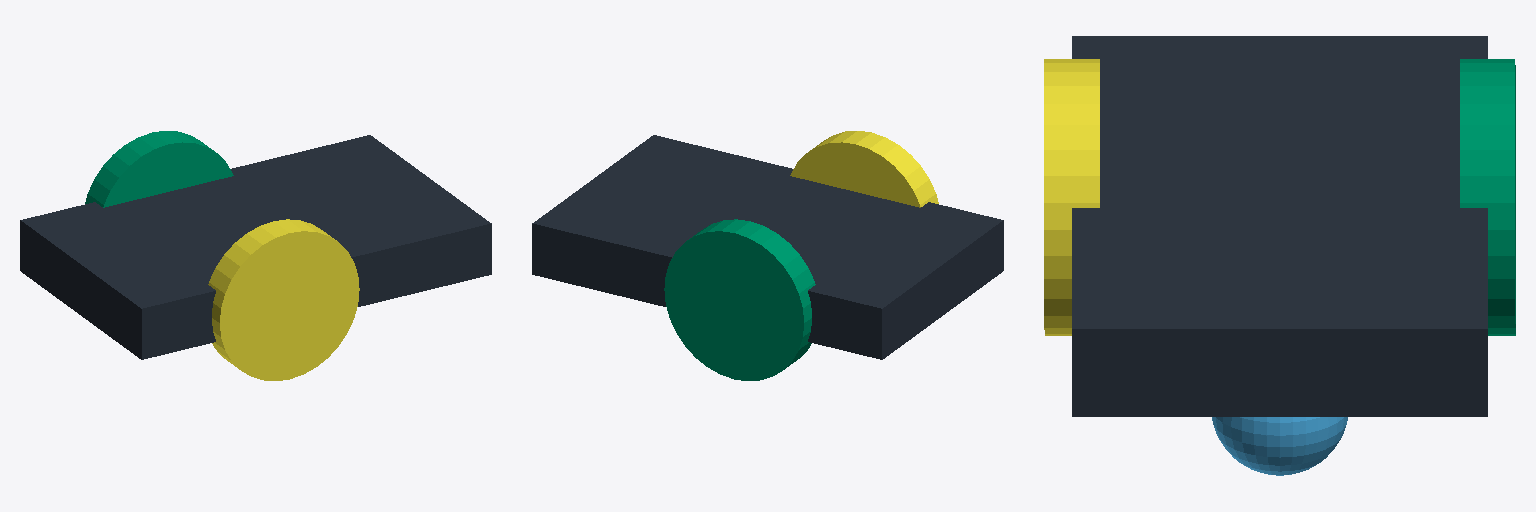
robot.urdf — m2wr:
<?xml version="1.0" ?>
<robot name="m2wr" xmlns:xacro="http://www.ros.org/wiki/xacro">
	
	
		  <gazebo reference="link_chassis">
    <material>Gazebo/Orange</material>
  </gazebo>
  <gazebo reference="link_left_wheel">
    <material>Gazebo/Blue</material>
  </gazebo>
  <gazebo reference="link_right_wheel">
    <material>Gazebo/Blue</material>
  </gazebo>
  
  	<gazebo>
	    <plugin filename="libgazebo_ros_diff_drive.so" name="differential_drive_controller">
	      	<legacyMode>false</legacyMode>
	      	<alwaysOn>true</alwaysOn>
	      	<updateRate>20</updateRate>
	      	<leftJoint>joint_left_wheel</leftJoint>
	      	<rightJoint>joint_right_wheel</rightJoint>
	      	<wheelSeparation>0.3</wheelSeparation>
	      	<wheelDiameter>0.2</wheelDiameter>
	      	<torque>0.1</torque>
	      	<commandTopic>cmd_vel</commandTopic>
	      	<odometryTopic>odom</odometryTopic>
	      	<odometryFrame>odom</odometryFrame>
	      	<robotBaseFrame>link_chassis</robotBaseFrame>
	    </plugin>
  	</gazebo>

	  	<material name="black">
		<color rgba="0.0 0.0 0.0 1.0"/>
	</material>
	<material name="blue">
	    <color rgba="0.203125 0.23828125 0.28515625 1.0"/>
	  </material>
	  <material name="green">
	    <color rgba="0.0 0.8 0.0 1.0"/>
	  </material>
	  <material name="grey">
	    <color rgba="0.2 0.2 0.2 1.0"/>
	  </material>
	  <material name="orange">
	    <color rgba="1.0 0.423529411765 0.0392156862745 1.0"/>
	  </material>
	  <material name="brown">
	    <color rgba="0.870588235294 0.811764705882 0.764705882353 1.0"/>
	  </material>
	  <material name="red">
	    <color rgba="0.80078125 0.12890625 0.1328125 1.0"/>
	  </material>
	  <material name="white">
	    <color rgba="1.0 1.0 1.0 1.0"/>
	  </material>

  	<!-- Dummy link -->
  	<link name="dummy">
   		</link>

   	<!--joint between dummy and link_chassis-->
   	<joint name="dummy_joint" type="fixed">
     	<parent link="dummy"/>
     	<child link="link_chassis"/>
   	</joint>
  
  	<!--Main body of robot-->
  	<link name="link_chassis">
    	<!-- pose and inertial -->
    	<pose>0 0 0.5 0 0 0</pose>
    	<inertial>
      		<mass value="5"/>
      		<origin rpy="0 0 0" xyz="0 0 0.1"/>
      		<inertia ixx="0.0395416666667" ixy="0" ixz="0" iyy="0.106208333333" iyz="0" izz="0.106208333333"/>
    	</inertial>
    	<!-- body -->
    	<collision name="collision_chassis">
      		<geometry>
        		<box size="0.5 0.3 0.07"/>
      		</geometry>
    	</collision>
    	<visual>
      		<origin rpy="0 0 0" xyz="0 0 0"/>
      		<geometry>
        		<box size="0.5 0.3 0.07"/>
      		</geometry>
      		<material name="blue"/>
    	</visual>
    	<!-- caster front -->
    	<collision name="caster_front_collision">
      		<origin rpy=" 0 0 0" xyz="0.35 0 -0.05"/>
      		<geometry>
        		<sphere radius="0.05"/>
      		</geometry>
      		<surface>
        		<friction>
          			<ode>
            			<mu>0</mu>
            			<mu2>0</mu2>
            			<slip1>1.0</slip1>
            			<slip2>1.0</slip2>
          			</ode>
        		</friction>
      		</surface>
    	</collision>
    	<visual name="caster_front_visual">
      		<origin rpy=" 0 0 0" xyz="0.2 0 -0.05"/>
      		<geometry>
        		<sphere radius="0.05"/>
      		</geometry>
    	</visual>
  	</link>
  
  	<link name="link_right_wheel">
    	<inertial>
      		<mass value="0.2"/>
      		<origin rpy="0 1.5707 1.5707" xyz="0 0 0"/>
      		<inertia ixx="0.000526666666667" ixy="0" ixz="0" iyy="0.000526666666667" iyz="0" izz="0.001"/>
    	</inertial>
    	<collision name="link_right_wheel_collision">
      		<origin rpy="0 1.5707 1.5707" xyz="0 0 0"/>
      		<geometry>
        		<cylinder length="0.04" radius="0.1"/>
      		</geometry>
    	</collision>
    	<visual name="link_right_wheel_visual">
      		<origin rpy="0 1.5707 1.5707" xyz="0 0 0"/>
      		<geometry>
        		<cylinder length="0.04" radius="0.1"/>
      		</geometry>
    	</visual>
  	</link>
  
  	<joint name="joint_right_wheel" type="continuous">
	    <origin rpy="0 0 0" xyz="-0.05 0.15 0"/>
	    <child link="link_right_wheel"/>
	    <parent link="link_chassis"/>
	    <axis rpy="0 0 0" xyz="0 1 0"/>
	    <limit effort="10000" velocity="1000"/>
	    <joint_properties damping="1.0" friction="1.0"/>
  	</joint>
  
  	<link name="link_left_wheel">
    	<inertial>
	      	<mass value="0.2"/>
	      	<origin rpy="0 1.5707 1.5707" xyz="0 0 0"/>
	      	<inertia ixx="0.000526666666667" ixy="0" ixz="0" iyy="0.000526666666667" iyz="0" izz="0.001"/>
	    </inertial>
	    <collision name="link_left_wheel_collision">
	      	<origin rpy="0 1.5707 1.5707" xyz="0 0 0"/>
	      	<geometry>
	        	<cylinder length="0.04" radius="0.1"/>
	      	</geometry>
	    </collision>
	    <visual name="link_left_wheel_visual">
	      	<origin rpy="0 1.5707 1.5707" xyz="0 0 0"/>
	      	<geometry>
	        	<cylinder length="0.04" radius="0.1"/>
	      	</geometry>
	    </visual>
  	</link>
  
  	<joint name="joint_left_wheel" type="continuous">
	    <origin rpy="0 0 0" xyz="-0.05 -0.15 0"/>
	    <child link="link_left_wheel"/>
	    <parent link="link_chassis"/>
	    <axis rpy="0 0 0" xyz="0 1 0"/>
	    <limit effort="10000" velocity="1000"/>
	    <joint_properties damping="1.0" friction="1.0"/>
  	</joint>
</robot>

--- Render facts (derived) ---
3 views of the same robot in one strip: view 1: azimuth 30°, elevation 25°; view 2: azimuth 150°, elevation 25°; view 3: azimuth 270°, elevation 25° (orthographic).
Robot: m2wr — 4 links, 3 joints (2 continuous, 1 fixed); root link dummy; default pose: all joints at 0.
Visible links, largest first — view 1: link_chassis, link_left_wheel, link_right_wheel; view 2: link_chassis, link_right_wheel, link_left_wheel; view 3: link_chassis, link_right_wheel, link_left_wheel.
Link boxes in pixels (left/top/right/bottom): link_chassis: left=20, top=135, right=491, bottom=359; link_left_wheel: left=208, top=219, right=359, bottom=380; link_right_wheel: left=85, top=131, right=233, bottom=207; link_chassis: left=532, top=135, right=1003, bottom=359; link_right_wheel: left=664, top=219, right=815, bottom=380; link_left_wheel: left=790, top=131, right=938, bottom=207; link_chassis: left=1072, top=36, right=1487, bottom=475; link_right_wheel: left=1460, top=59, right=1515, bottom=335; link_left_wheel: left=1044, top=59, right=1099, bottom=335.
Size in the robot's own frame: 0.5 by 0.34 by 0.2 metres.
Geometry: primitives only (box / cylinder / sphere), no mesh files.